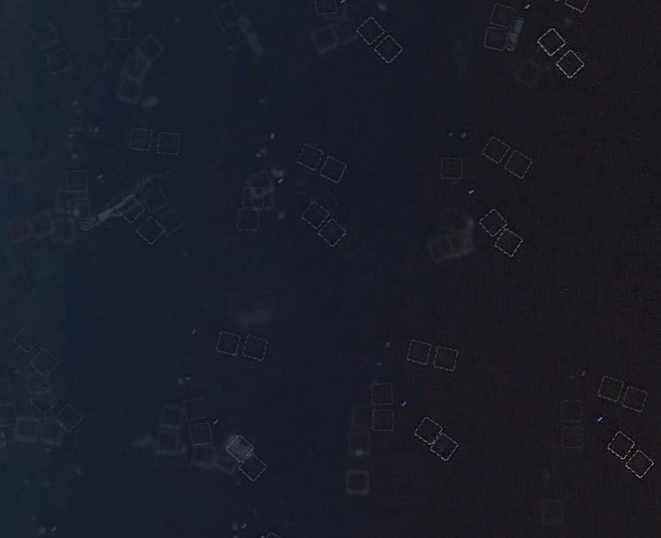square: (602, 424, 641, 464), (593, 370, 631, 409), (428, 340, 462, 377), (410, 413, 447, 447), (304, 21, 341, 55), (57, 161, 92, 196), (315, 213, 349, 249), (476, 206, 512, 239), (297, 196, 333, 229), (367, 405, 401, 439), (424, 229, 458, 263), (478, 133, 513, 166), (238, 332, 273, 365), (224, 432, 257, 467), (41, 44, 78, 75), (534, 26, 568, 59), (133, 212, 167, 245), (555, 393, 588, 427), (26, 21, 61, 53), (401, 334, 435, 366), (356, 12, 387, 47), (492, 224, 523, 259), (624, 445, 655, 480), (554, 48, 586, 81), (240, 452, 273, 484), (52, 399, 84, 432), (329, 13, 362, 45), (297, 138, 328, 172), (25, 207, 56, 241), (450, 223, 481, 257), (373, 32, 405, 64), (620, 382, 651, 415), (366, 376, 399, 407), (501, 149, 535, 179), (428, 431, 460, 462), (213, 324, 244, 356), (189, 438, 220, 470), (183, 418, 217, 447), (316, 154, 346, 186), (48, 216, 80, 246), (156, 400, 189, 429), (235, 202, 265, 233), (147, 429, 184, 454), (343, 466, 372, 497), (9, 414, 40, 443), (535, 495, 566, 524), (482, 22, 514, 50), (488, 1, 520, 29), (135, 30, 164, 60), (115, 192, 145, 221), (65, 192, 95, 221), (437, 154, 466, 183), (245, 170, 277, 196), (559, 421, 587, 450), (124, 123, 153, 150), (155, 129, 181, 156), (180, 393, 208, 418), (347, 428, 373, 454), (350, 403, 374, 428)
